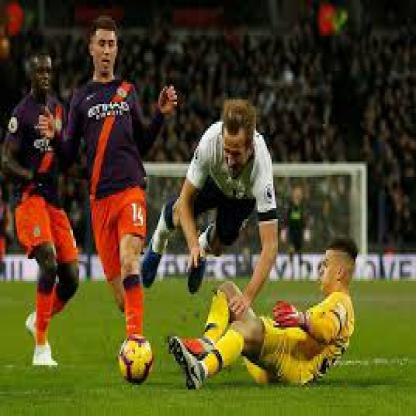Fall_Down: (142, 99, 279, 317)
